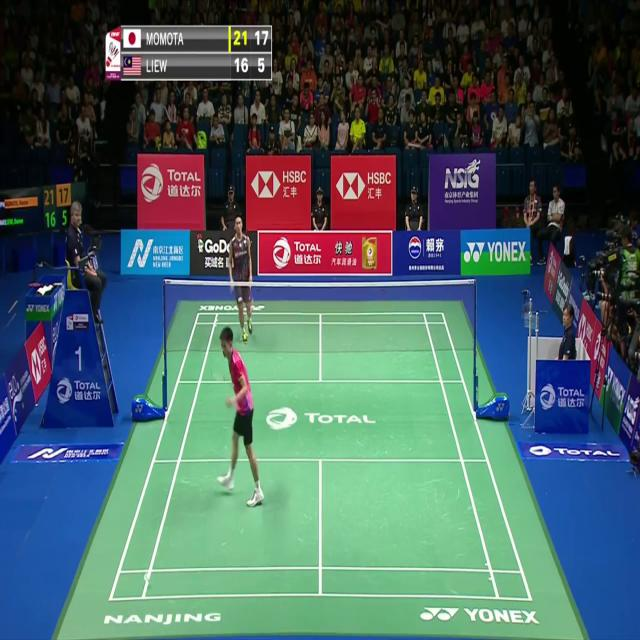Shuttlecock: (144, 572, 150, 584)
